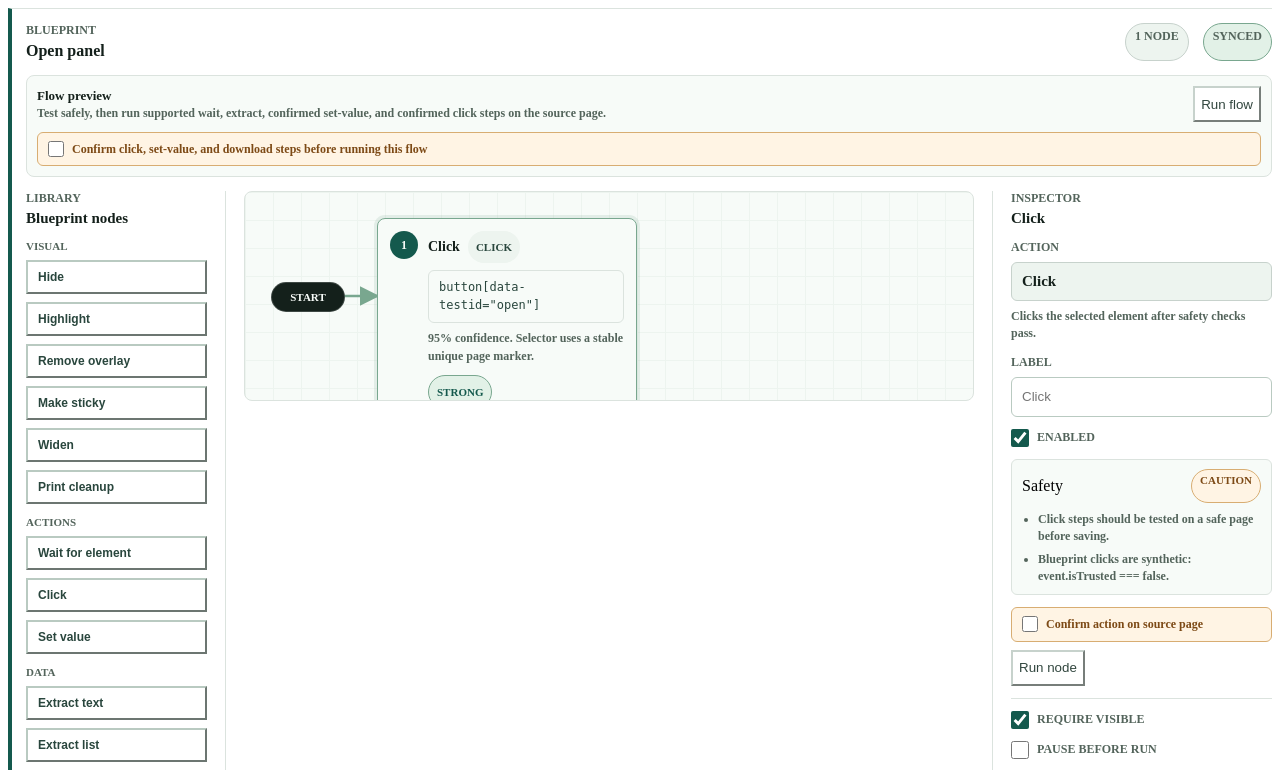
Test: BlueprintPreview › requires explicit confirmation before running click nodes
Expected: the button "Run node" is disabled, [1011,650,1085,686]
Click the checkbox labelled "Confirm action on source page": (1030,624) [1022,616,1038,632]
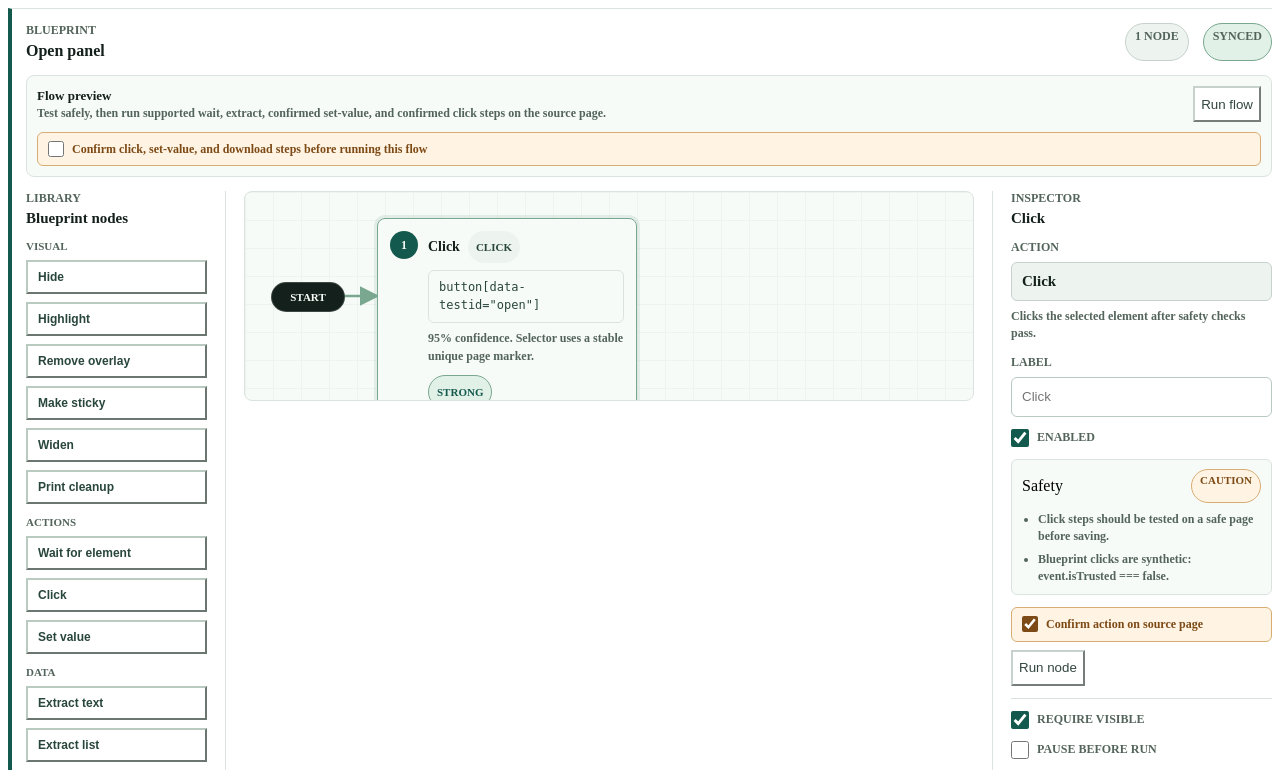
Click the button "Run node": (1048,668) [1011,650,1085,686]
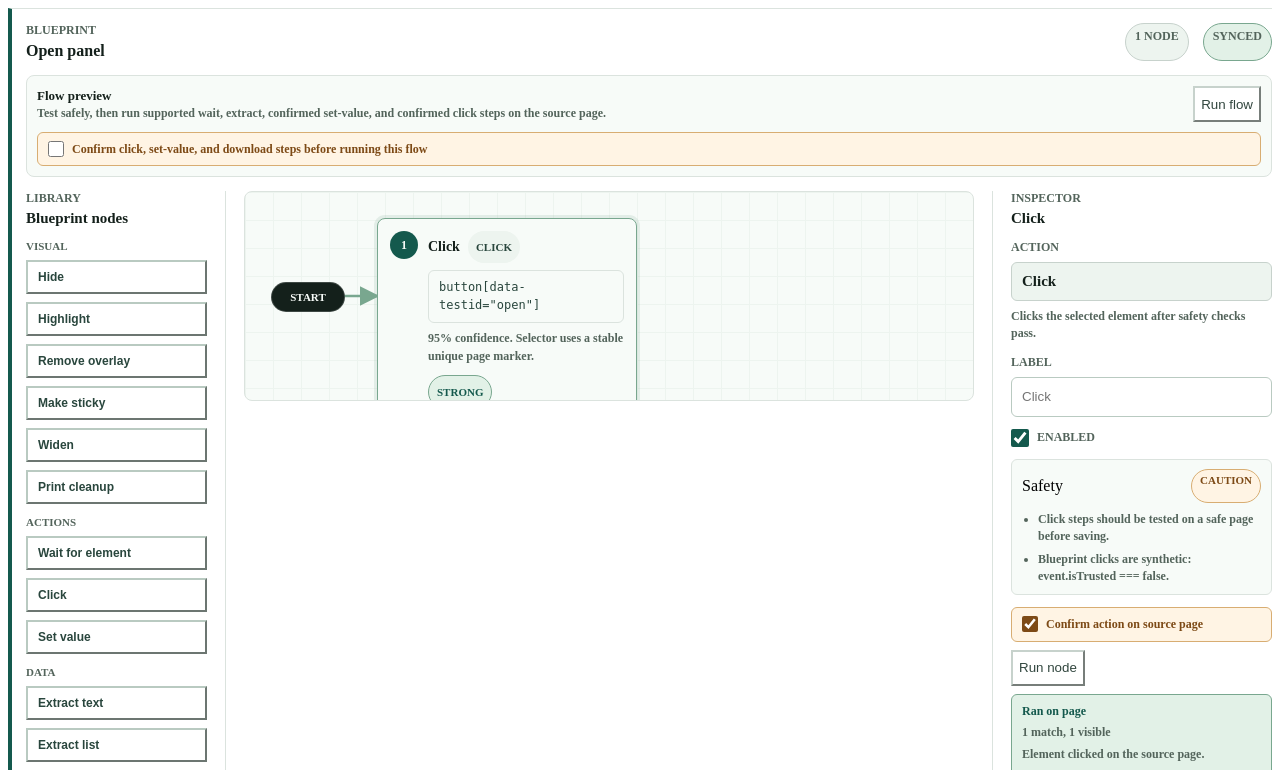
Now the text "Ran on page" is shown, box [1022,704,1086,718]
Now the text "Element clicked on the source page." is shown, box [1022,747,1204,761]
